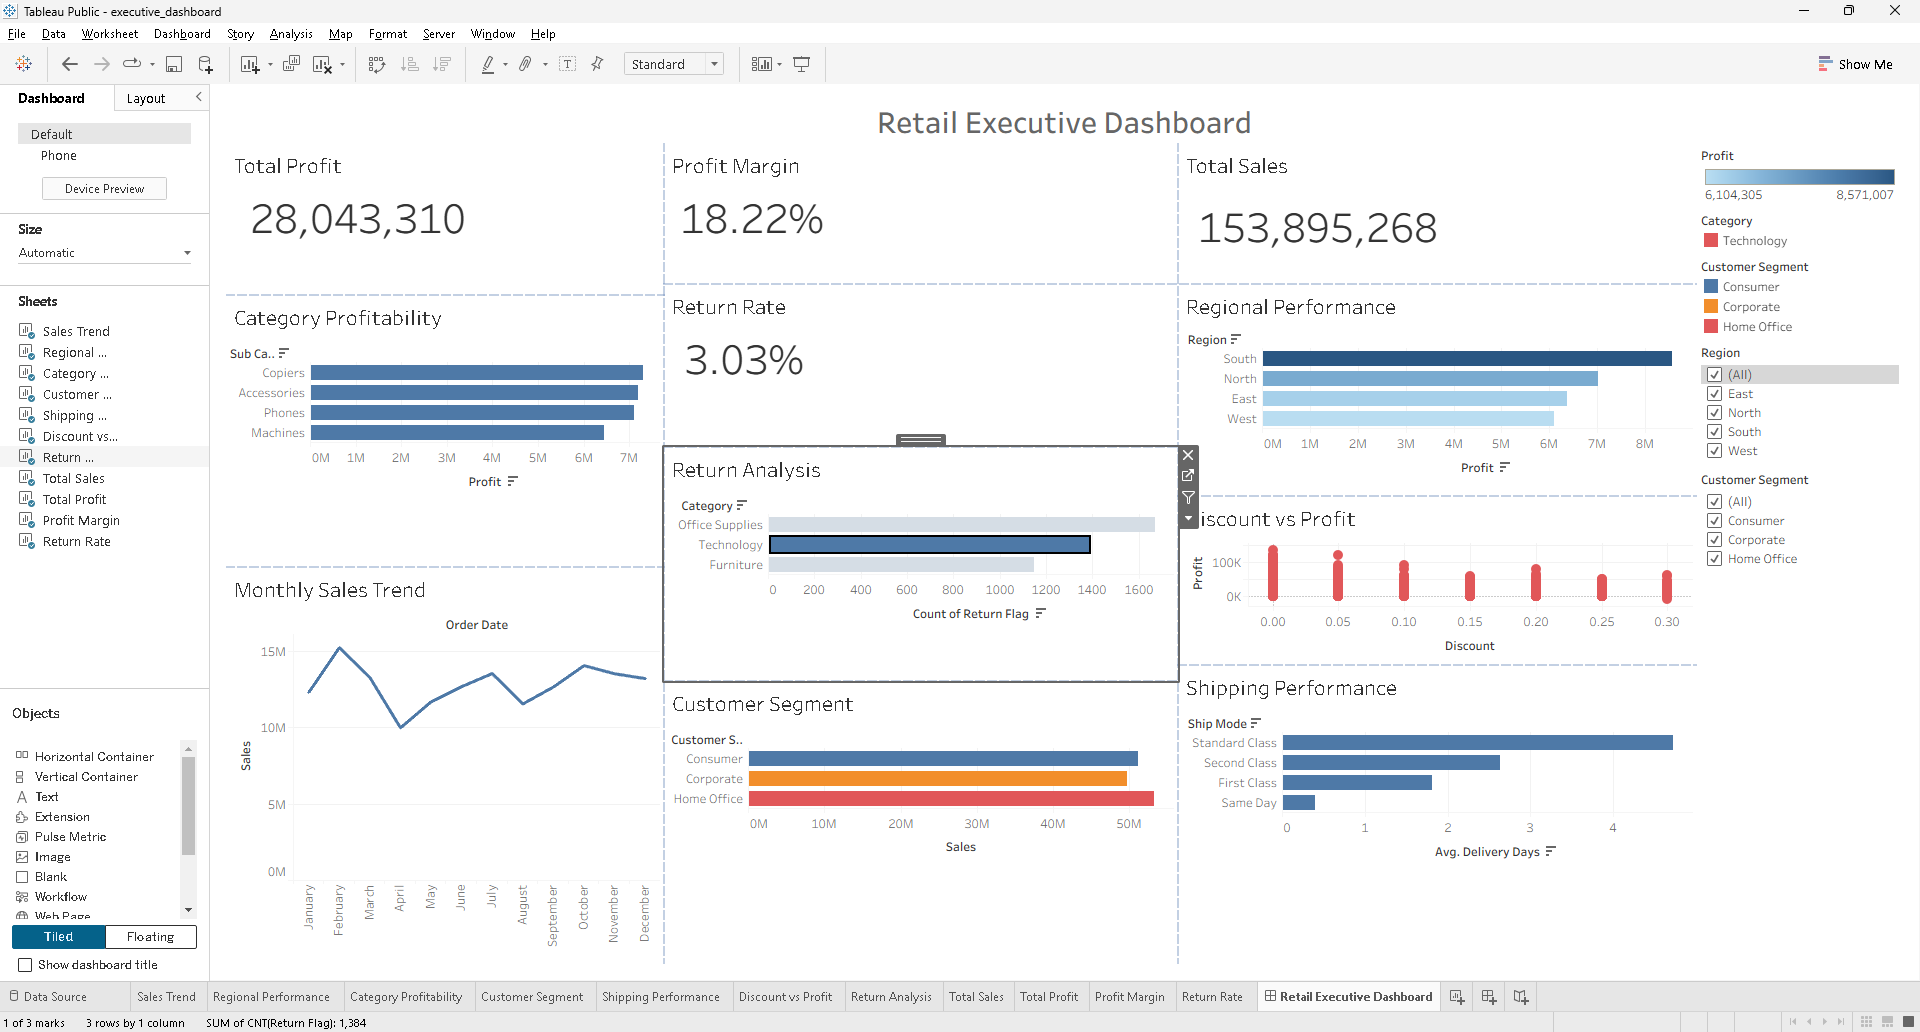

The dashboard page shown, as its layout file describes it:
{"tool":"tableau","page":{"name":"Retail Executive Dashboard","canvas":[1000,1000],"units":"permille","ordinal":0},"visuals":[{"type":"text","box":[9.4,17.9,981.3,48.2]},{"type":"worksheet","title":"Total Profit","mark":"Automatic","box":[9.4,66.1,256.5,169.7]},{"type":"worksheet","title":"Profit Margin","mark":"Automatic","box":[265.8,66.1,300.6,156.9]},{"type":"worksheet","title":"Total Sales","mark":"Automatic","box":[566.4,66.1,303.7,157.2]},{"type":"legend","title":"Regional Performance","param":"[federated.0ro5hkp0bis02r17amwgg1hcqx3m].[sum:profit:qk]","box":[870.1,66.1,120.5,72.5]},{"type":"legend","title":"Discount vs Profit","param":"[federated.0ro5hkp0bis02r17amwgg1hcqx3m].[none:category:nk]","box":[870.1,138.6,120.5,96]},{"type":"worksheet","title":"Return Rate","mark":"Automatic","box":[265.8,223,300.6,182.1]},{"type":"worksheet","title":"Regional Performance","mark":"Bar","rows":["region"],"cols":["profit"],"box":[566.4,223.2,303.7,236.7]},{"type":"legend","title":"Customer Segment","param":"[federated.0ro5hkp0bis02r17amwgg1hcqx3m].[none:customer_segment:nk]","box":[870.1,234.6,120.5,96]},{"type":"worksheet","title":"Category Profitability","mark":"Automatic","rows":["sub_category"],"cols":["profit"],"box":[9.4,235.7,256.5,302.9]},{"type":"filter","title":"Regional Performance","param":"[federated.0ro5hkp0bis02r17amwgg1hcqx3m].[none:region:nk]","box":[870.1,330.6,120.5,141.7]},{"type":"worksheet","title":"Return Analysis","mark":"Automatic","rows":["category"],"cols":["return_flag"],"box":[265.8,405,300.6,261.1]},{"type":"worksheet","title":"Discount vs Profit","mark":"Circle","rows":["profit"],"cols":["discount"],"box":[566.4,460,303.7,188.9]},{"type":"filter","title":"Customer Segment","param":"[federated.0ro5hkp0bis02r17amwgg1hcqx3m].[none:customer_segment:nk]","box":[870.1,472.3,120.5,120.5]},{"type":"worksheet","title":"Sales Trend","mark":"Line","rows":["sales"],"cols":["order_date"],"box":[9.4,538.7,256.5,443.5]},{"type":"worksheet","title":"Shipping Performance","mark":"Bar","rows":["ship_mode"],"cols":["delivery_days"],"box":[566.4,648.9,303.7,333.2]},{"type":"worksheet","title":"Customer Segment","mark":"Automatic","rows":["customer_segment"],"cols":["sales"],"box":[265.8,666.1,300.6,316]}]}

Visuals, with their boxes on the dashboard's canvas, which has no fixed pixel size, in thousandths of its width and height (x1, y1, x2, y2). These are canvas units, not pixel positions in the 1920x1032 screenshot, which may show the page scaled, cropped or inside an application window:
text: box(9, 18, 991, 66)
"Total Profit" worksheet: box(9, 66, 266, 236)
"Profit Margin" worksheet: box(266, 66, 566, 223)
"Total Sales" worksheet: box(566, 66, 870, 223)
"Regional Performance" legend: box(870, 66, 991, 139)
"Discount vs Profit" legend: box(870, 139, 991, 235)
"Return Rate" worksheet: box(266, 223, 566, 405)
"Regional Performance" worksheet (Bar marks): box(566, 223, 870, 460)
"Customer Segment" legend: box(870, 235, 991, 331)
"Category Profitability" worksheet: box(9, 236, 266, 539)
"Regional Performance" filter: box(870, 331, 991, 472)
"Return Analysis" worksheet: box(266, 405, 566, 666)
"Discount vs Profit" worksheet (Circle marks): box(566, 460, 870, 649)
"Customer Segment" filter: box(870, 472, 991, 593)
"Sales Trend" worksheet (Line marks): box(9, 539, 266, 982)
"Shipping Performance" worksheet (Bar marks): box(566, 649, 870, 982)
"Customer Segment" worksheet: box(266, 666, 566, 982)
